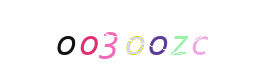0: (26, 0, 106, 80), (95, 0, 175, 80), (96, 0, 176, 80)
3: (92, 0, 172, 80)
C: (116, 0, 196, 80)
O: (49, 0, 129, 80)
Z: (105, 0, 185, 80)
